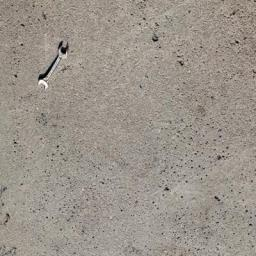FOD: (36, 39, 74, 92)
